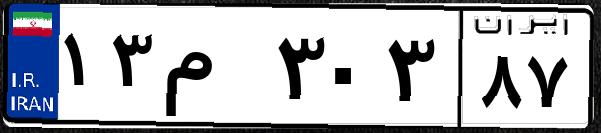0: (330, 28, 385, 110)
1: (57, 26, 110, 100)
3: (270, 28, 330, 110), (385, 28, 445, 110), (110, 28, 158, 98)
7: (525, 38, 570, 115)
8: (475, 38, 525, 113)
م: (158, 20, 270, 120)
